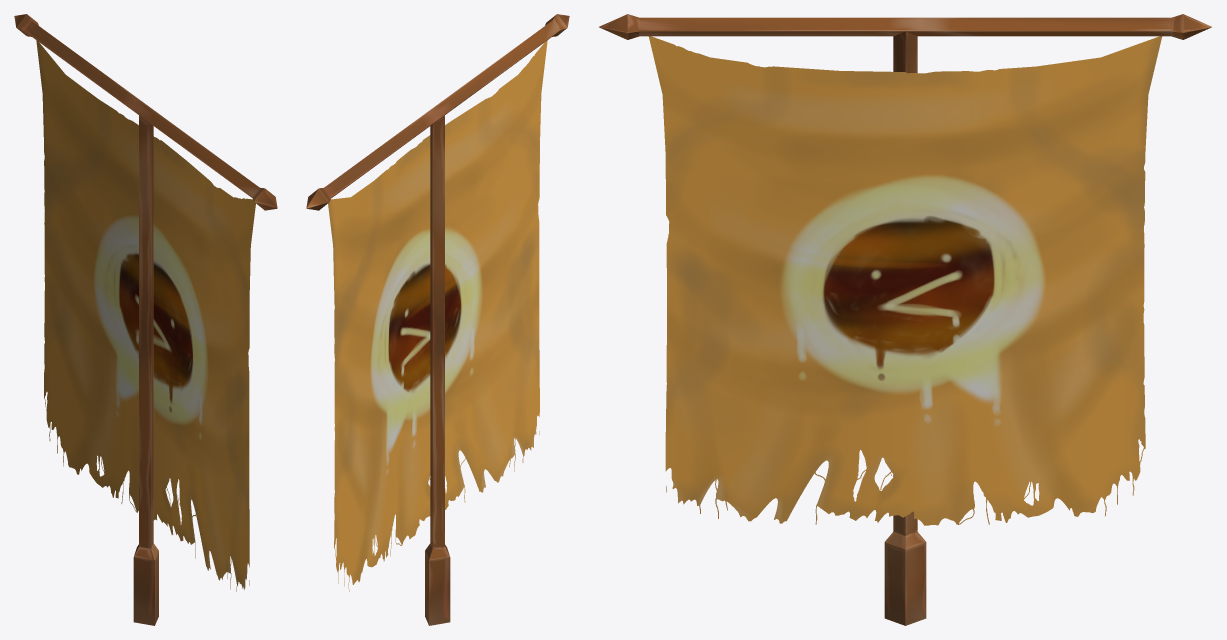
File: flag.fbx
The picture shows the model from 3 angles, left to right: view 1: azimuth 30°, elevation 25°; view 2: azimuth 150°, elevation 25°; view 3: azimuth 270°, elevation 25°; orthographic projection. The views are drawn at different scales.
Parts seen in each view (by area): view 1: Flag, Wood; view 2: Flag, Wood; view 3: Flag, Wood.
Boxes of the visible parts, x1,y1,x2,y2 form: Flag: [36, 40, 255, 591]; Wood: [14, 14, 277, 625]; Flag: [328, 40, 547, 591]; Wood: [306, 14, 569, 625]; Flag: [648, 36, 1162, 525]; Wood: [599, 14, 1211, 625].
Size of the model in its own units: 14.27 by 259 by 239.
